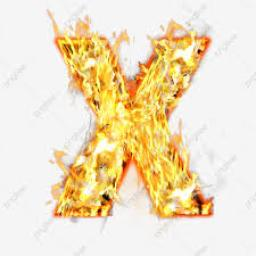x: (42, 26, 218, 220)
